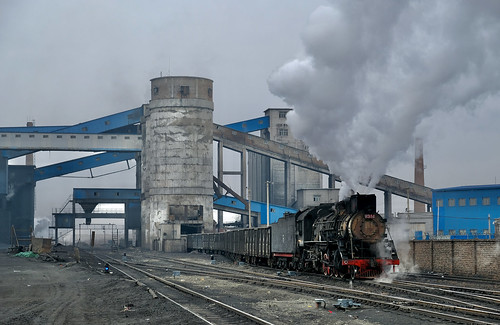building: (138, 70, 221, 258), (420, 181, 500, 242)
sky: (1, 1, 283, 128)
smoke: (273, 1, 500, 196)
train: (191, 194, 404, 280)
train track: (92, 252, 500, 325)
